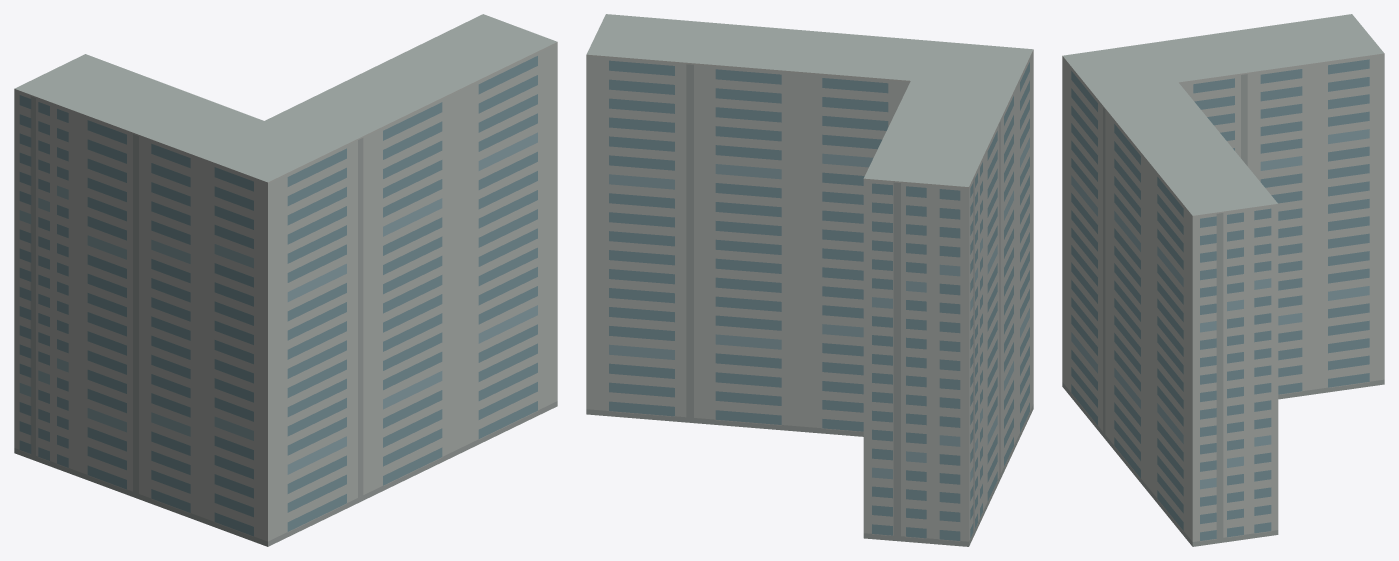
Rendered from residential-e6d8c9eb-9f6d-48d2-a1cb-359db24e1747.glb.
3 renders of one model, left to right at view 1: azimuth 30°, elevation 25°; view 2: azimuth 150°, elevation 25°; view 3: azimuth 270°, elevation 25°, orthographic. The views are drawn at different scales.
Parts seen in each view (by area): view 1: residential-e6d8c9eb-9f6d-48d2-a1cb-359db24e1747.tmp; view 2: residential-e6d8c9eb-9f6d-48d2-a1cb-359db24e1747.tmp; view 3: residential-e6d8c9eb-9f6d-48d2-a1cb-359db24e1747.tmp.
Boxes of the visible parts, x1=… form: residential-e6d8c9eb-9f6d-48d2-a1cb-359db24e1747.tmp: x1=14, y1=14, x2=557, y2=546; residential-e6d8c9eb-9f6d-48d2-a1cb-359db24e1747.tmp: x1=586, y1=14, x2=1033, y2=546; residential-e6d8c9eb-9f6d-48d2-a1cb-359db24e1747.tmp: x1=1062, y1=14, x2=1384, y2=546.
Size of the model in its own units: 81.1 by 62 by 54.68.
